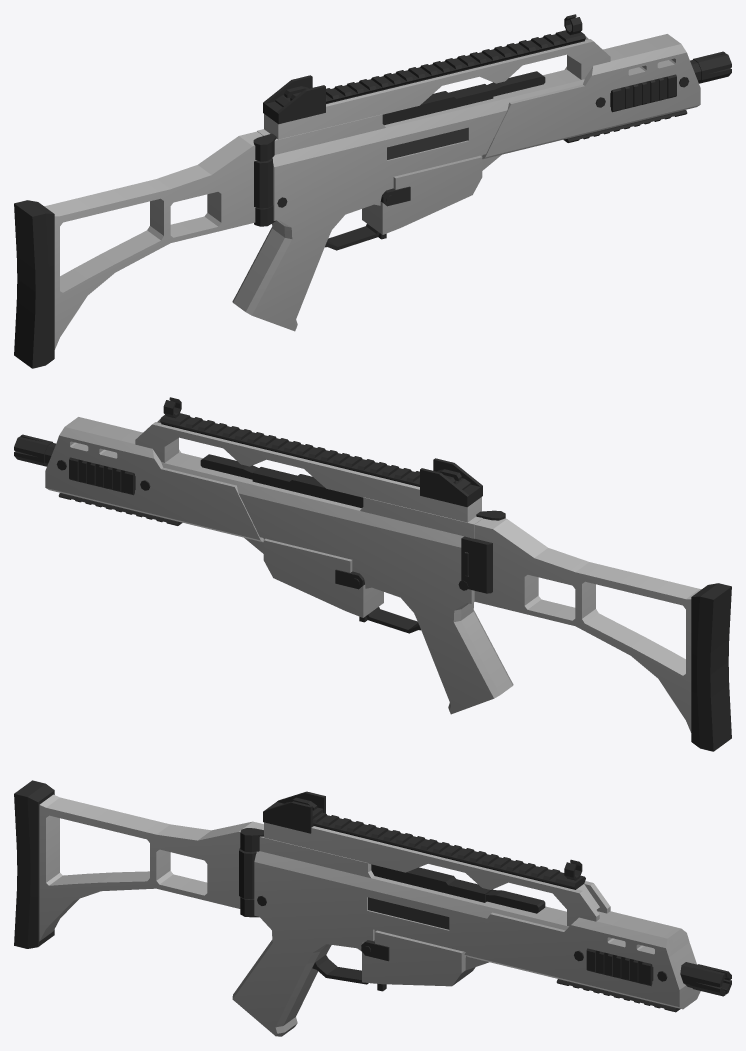
The model's file is AssaultRifle3_05.fbx.
3 renders of one model, top to bottom at view 1: azimuth 30°, elevation 25°; view 2: azimuth 150°, elevation 25°; view 3: azimuth 330°, elevation 25°, orthographic.
Visible parts, largest first — view 1: AssaultRifle3_05; view 2: AssaultRifle3_05; view 3: AssaultRifle3_05.
Boxes of the visible parts, x1,y1,x2,y2 form: AssaultRifle3_05: [14, 14, 731, 368]; AssaultRifle3_05: [14, 397, 731, 751]; AssaultRifle3_05: [14, 780, 731, 1036].
Size of the model in its own units: 0.8153 by 0.2655 by 0.0529.
